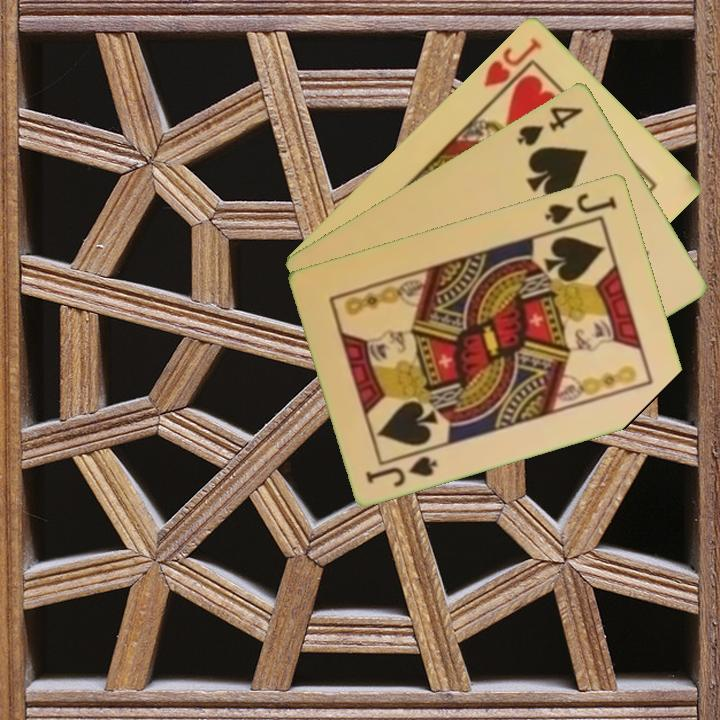4s: (513, 102, 586, 149)
Jh: (480, 33, 545, 90)
Js: (541, 189, 620, 227), (362, 452, 440, 490)
